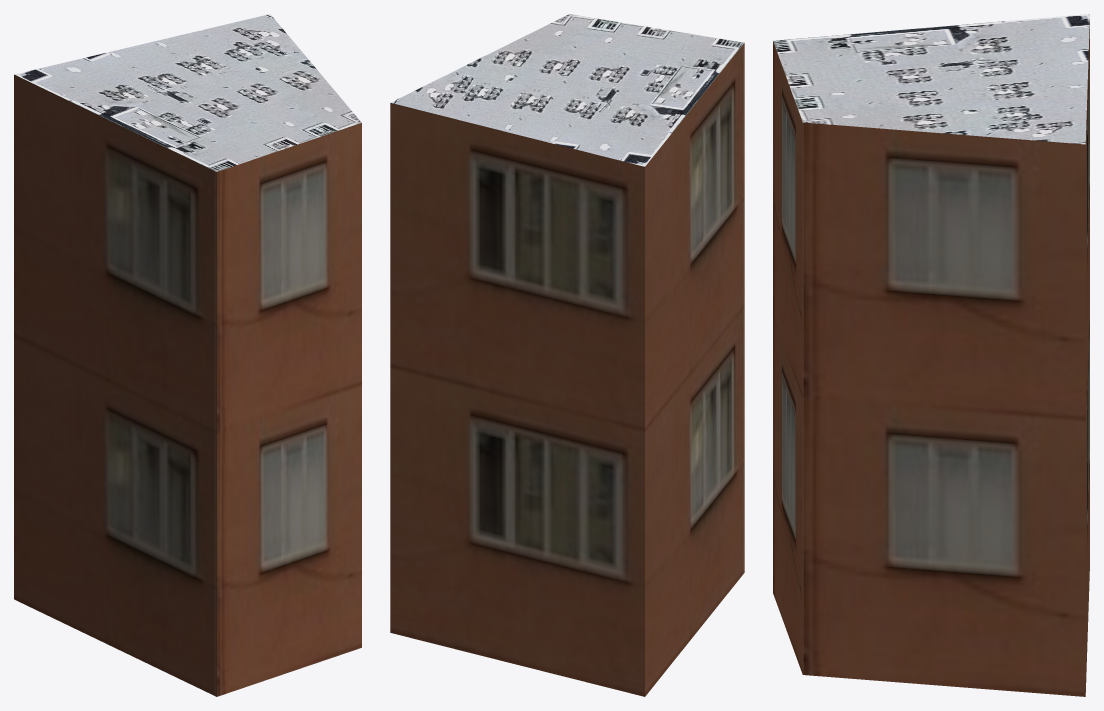
File: ResTex__4679.fbx
3 renders of one model, left to right at view 1: azimuth 30°, elevation 25°; view 2: azimuth 150°, elevation 25°; view 3: azimuth 270°, elevation 25°, orthographic. The views are drawn at different scales.
Parts seen in each view (by area): view 1: CityEngineMaterial_20_m, CityEngineMaterial_8_m; view 2: CityEngineMaterial_20_m, CityEngineMaterial_8_m; view 3: CityEngineMaterial_20_m, CityEngineMaterial_8_m.
Boxes of the visible parts, <box> form: CityEngineMaterial_20_m: <box>14,74,361,696</box>; CityEngineMaterial_8_m: <box>14,14,361,171</box>; CityEngineMaterial_20_m: <box>390,43,744,696</box>; CityEngineMaterial_8_m: <box>391,14,743,166</box>; CityEngineMaterial_20_m: <box>773,19,1089,696</box>; CityEngineMaterial_8_m: <box>773,14,1089,144</box>.
Size of the model in its own units: 3.04 by 6 by 3.12.
2 materials, 2 textured.
